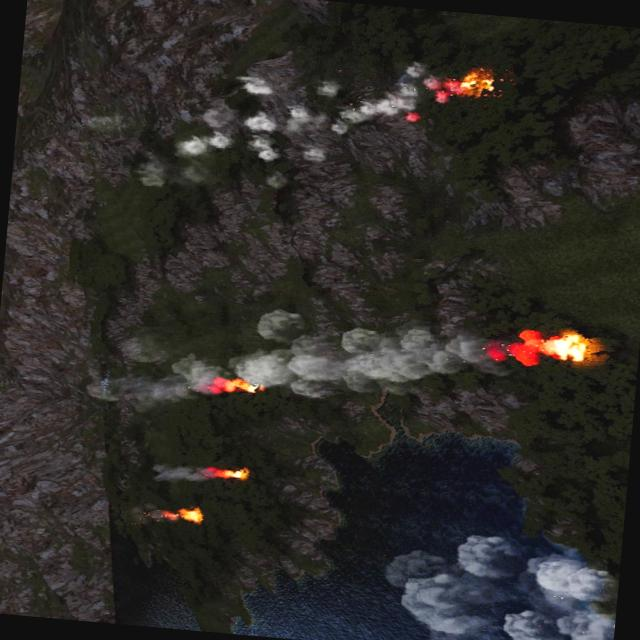fire: (432, 68, 492, 103), (537, 328, 590, 363), (212, 374, 262, 395), (206, 462, 250, 480), (163, 504, 202, 523)
smoke: (82, 288, 538, 443), (130, 36, 444, 210), (378, 524, 621, 640), (144, 458, 210, 482)
